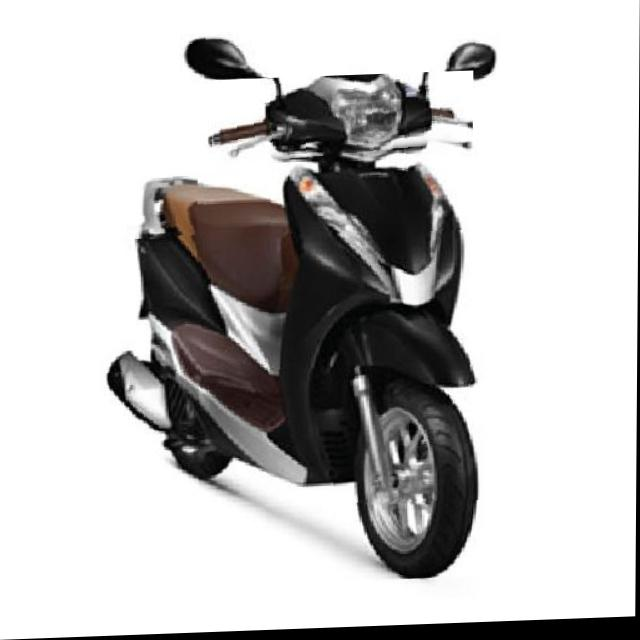All: (100, 25, 498, 591)
Head: (209, 74, 474, 168)
Tail: (132, 174, 198, 240)
